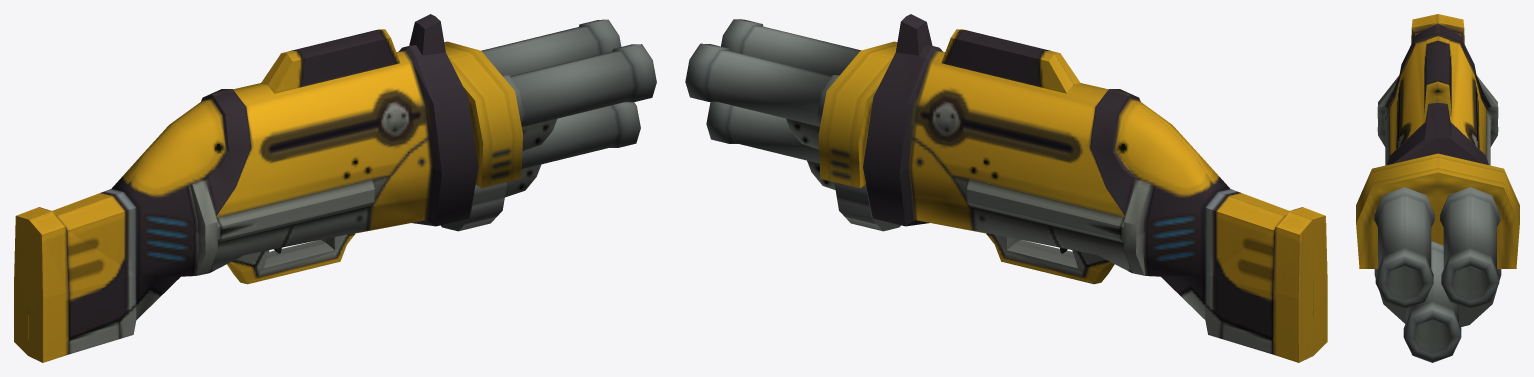
File: Gun_01_3.FBX
The picture shows the model from 3 angles, left to right: view 1: azimuth 30°, elevation 25°; view 2: azimuth 150°, elevation 25°; view 3: azimuth 270°, elevation 25°; orthographic projection. The views are drawn at different scales.
Visible parts, largest first — view 1: gun_01_3; view 2: gun_01_3; view 3: gun_01_3.
Boxes of the visible parts, box(x1,y1,x2,y2) form: gun_01_3: box(14, 14, 656, 362); gun_01_3: box(685, 14, 1327, 362); gun_01_3: box(1356, 14, 1519, 362).
Bounding box in the file's own units: 186 × 71.6 × 45.29.
